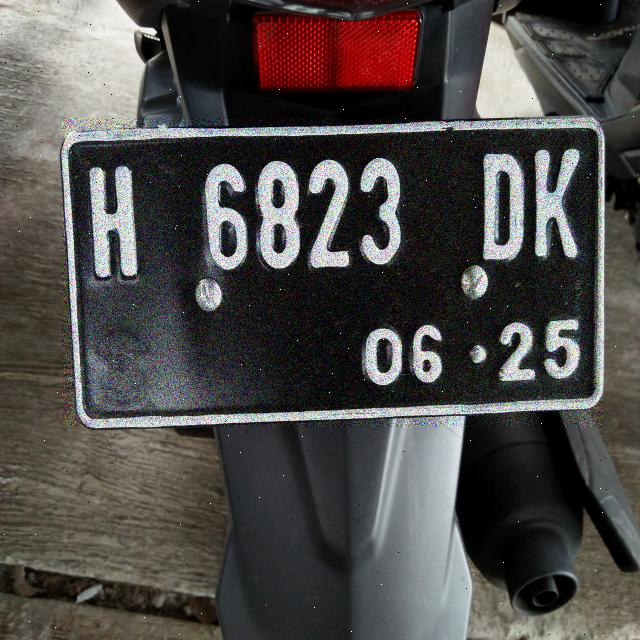plate: (62, 119, 602, 426)
